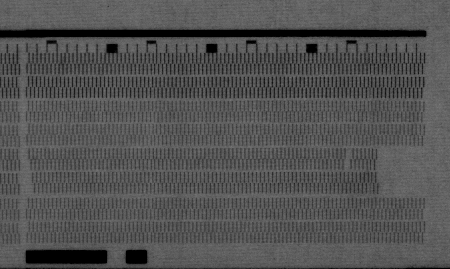Broken hole: (375, 147, 428, 193), (342, 148, 354, 171), (26, 171, 37, 196)
